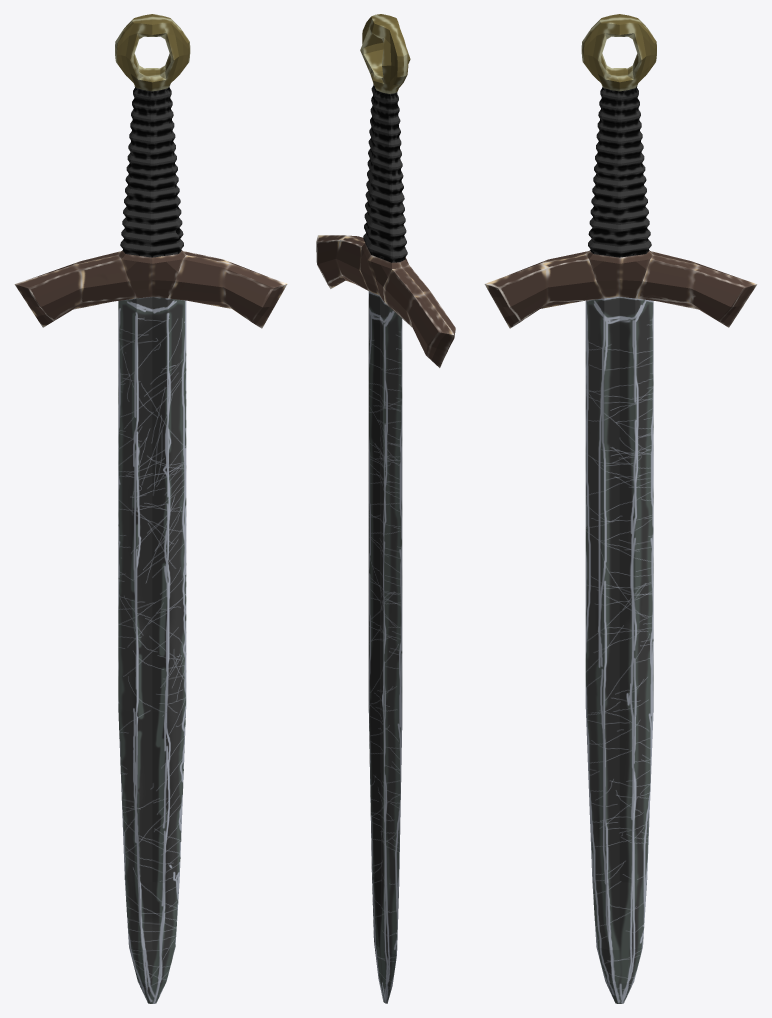
Rendered from espada2.fbx.
3 views of the same model, side by side, from view 1: azimuth 90°, elevation 25°; view 2: azimuth 210°, elevation 25°; view 3: azimuth 270°, elevation 25° (orthographic).
Parts seen in each view (by area): view 1: espada; view 2: espada; view 3: espada.
Part boxes in pixels (x1,y1,x2,y2): espada: (14, 14, 287, 1003); espada: (316, 14, 455, 1003); espada: (484, 14, 757, 1003).
Size of the model in its own units: 5.75 by 152 by 38.15.
1 material, 1 textured.
